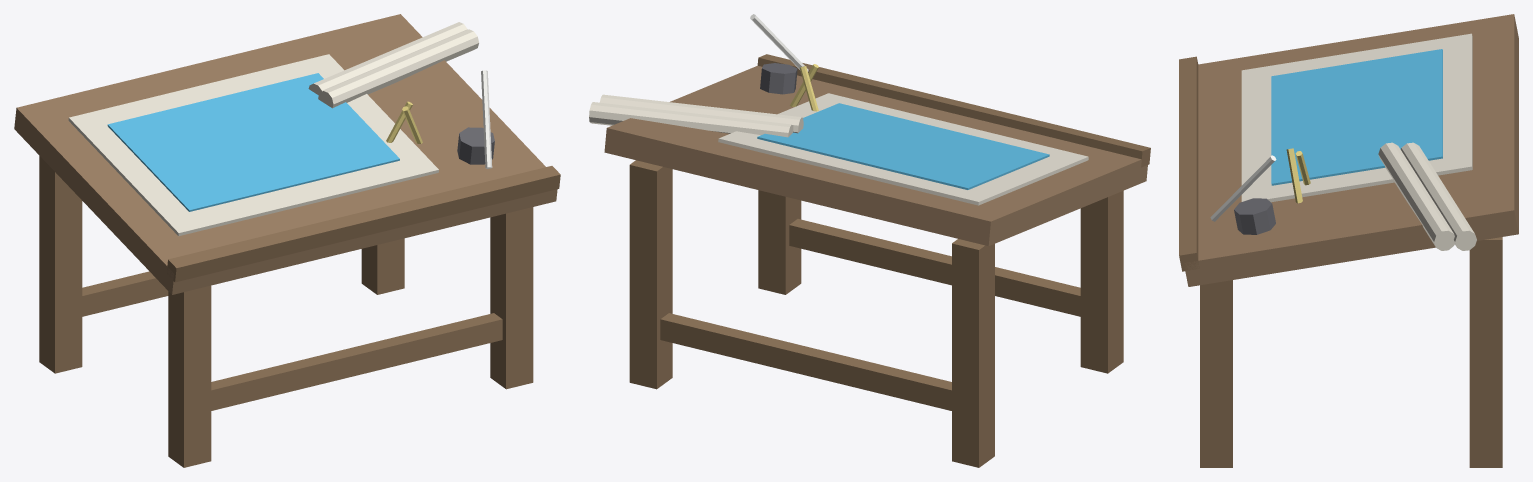
The model's file is architect_desk.glb.
3 views of the same model, side by side, from view 1: azimuth 30°, elevation 25°; view 2: azimuth 150°, elevation 25°; view 3: azimuth 270°, elevation 25° (orthographic). The views are drawn at different scales.
Parts seen in each view (by area): view 1: Cube.006, Cube.009, Cube.008, Cube.007, Cube.004, Cube.002, Cube, Cube.001, Cylinder, Cube.005, Cube.003, Cylinder.001 (+2 smaller); view 2: Cube.006, Cube.009, Cube.002, Cube.003, Cube.005, Cube.008, Cube, Cube.004, Cube.007, Cube.001, Cylinder.001, Cylinder (+1 smaller); view 3: Cube.006, Cube.009, Cube.008, Cube.003, Cube.001, Cube.007, Cylinder, Cylinder.001, Cylinder.004, Cylinder.005, Cylinder.003.
Part boxes in pixels (bbox=[...]): Cube.006: bbox=[14, 14, 557, 294]; Cube.009: bbox=[107, 73, 399, 211]; Cube.008: bbox=[68, 54, 438, 236]; Cube.007: bbox=[167, 166, 560, 282]; Cube.004: bbox=[211, 313, 502, 410]; Cube.002: bbox=[39, 156, 82, 373]; Cube: bbox=[168, 285, 211, 467]; Cube.001: bbox=[490, 207, 533, 389]; Cylinder: bbox=[318, 29, 478, 108]; Cube.005: bbox=[82, 271, 168, 316]; Cube.003: bbox=[361, 238, 404, 294]; Cylinder.001: bbox=[308, 22, 467, 95]; Cube.006: bbox=[604, 65, 1147, 246]; Cube.009: bbox=[757, 103, 1049, 189]; Cube.002: bbox=[952, 239, 994, 467]; Cube.003: bbox=[629, 160, 672, 389]; Cube.005: bbox=[660, 313, 951, 410]; Cube.008: bbox=[718, 93, 1088, 205]; Cube: bbox=[1080, 191, 1123, 373]; Cube.004: bbox=[789, 219, 1080, 316]; Cube.007: bbox=[757, 54, 1150, 167]; Cube.001: bbox=[758, 190, 801, 294]; Cylinder.001: bbox=[589, 102, 793, 137]; Cylinder: bbox=[599, 94, 803, 133]; Cube.006: bbox=[1184, 14, 1518, 286]; Cube.009: bbox=[1271, 49, 1442, 185]; Cube.008: bbox=[1241, 33, 1472, 202]; Cube.003: bbox=[1469, 237, 1502, 467]; Cube.001: bbox=[1200, 280, 1232, 467]; Cube.007: bbox=[1179, 56, 1199, 271]; Cylinder: bbox=[1378, 142, 1454, 250]; Cylinder.001: bbox=[1400, 142, 1476, 250]; Cylinder.004: bbox=[1234, 198, 1275, 234]; Cylinder.005: bbox=[1210, 155, 1276, 221]; Cylinder.003: bbox=[1286, 148, 1302, 203].
Bounding box in the file's own units: 1.71 × 1.12 × 1.13.
